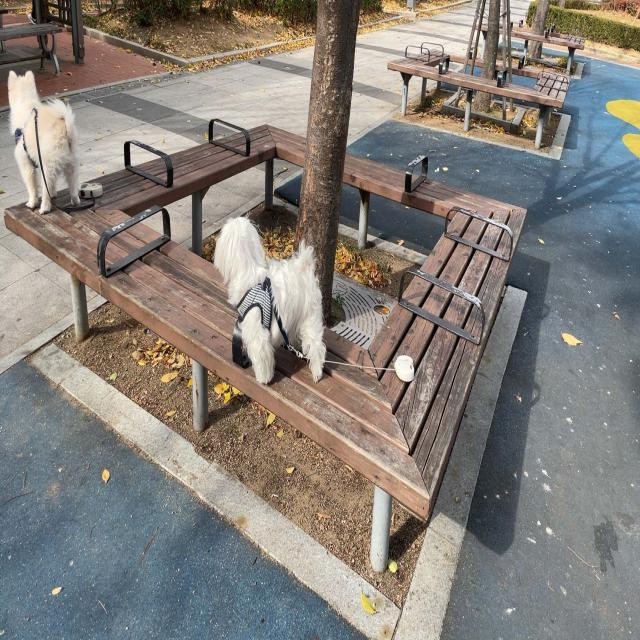Dog: (213, 218, 324, 382), (8, 70, 80, 214)
